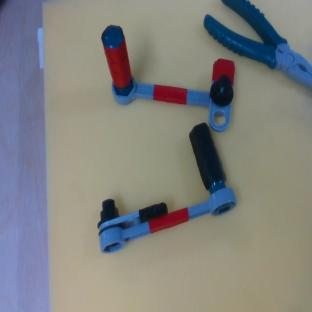non_pass: (72, 121, 239, 258)
pass: (84, 22, 247, 135)
